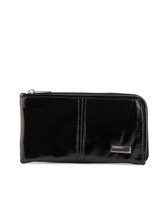other: (14, 90, 153, 164)
